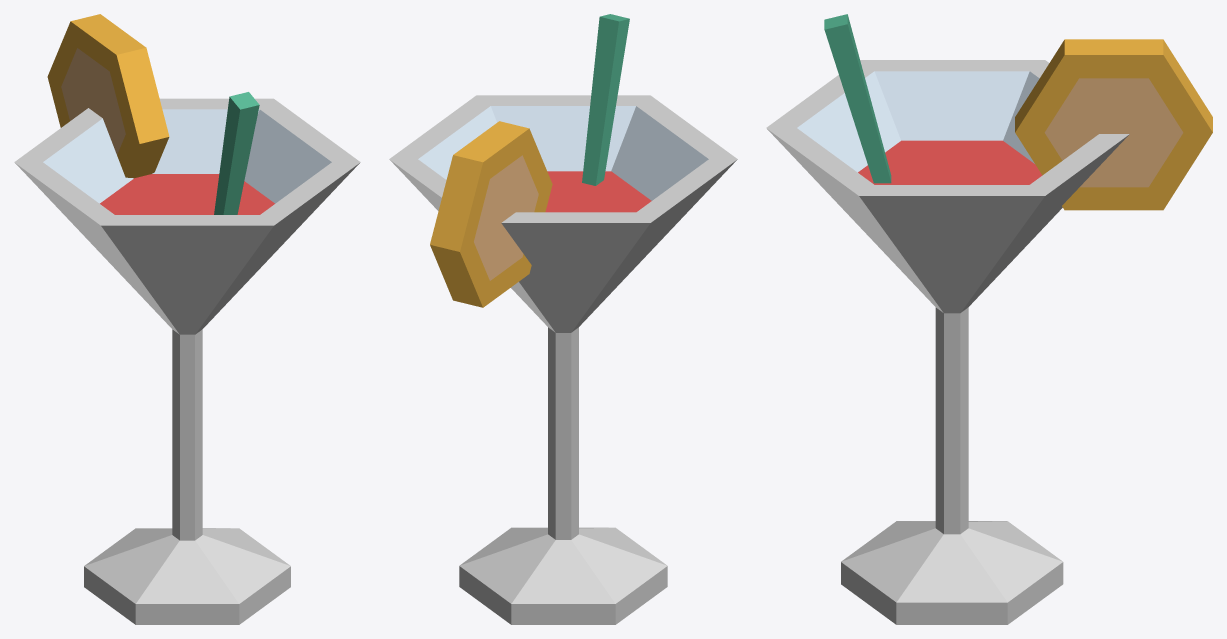
File: cocktail.fbx
3 views of the same model, side by side, from view 1: azimuth 30°, elevation 25°; view 2: azimuth 150°, elevation 25°; view 3: azimuth 270°, elevation 25° (orthographic). The views are drawn at different scales.
Visible parts, largest first — view 1: cocktail, lemon, straw; view 2: cocktail, lemon, straw; view 3: cocktail, lemon, straw.
Part boxes in pixels (bbox=[...]): cocktail: bbox=[14, 98, 360, 624]; lemon: bbox=[47, 14, 169, 178]; straw: bbox=[214, 92, 259, 214]; cocktail: bbox=[389, 95, 737, 624]; lemon: bbox=[430, 121, 552, 307]; straw: bbox=[582, 14, 629, 185]; cocktail: bbox=[766, 60, 1129, 624]; lemon: bbox=[1015, 39, 1212, 210]; straw: bbox=[824, 14, 891, 183].
Bounding box in the file's own units: 2.61 × 5.06 × 3.61.
